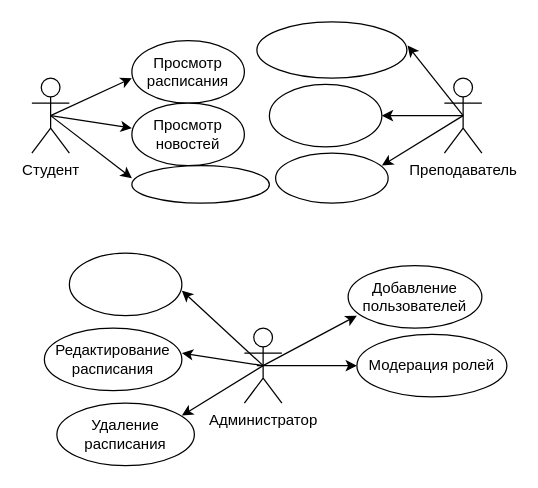
The diagram is 538 pixels wide and 488 high, and some of its shapes have lost their labels. The centre of each missing label's shape, as x and y in pixels:
Аутентификация: the point at 200,183
Добавление новостей: the point at 325,115
Добавление расписания: the point at 125,284
Редактирование новостей: the point at 331,49
Удаление новостей: the point at 331,177
